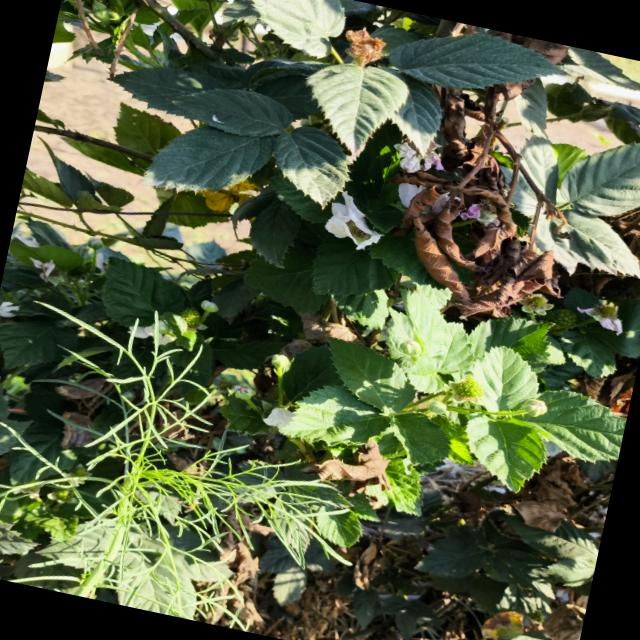boton: (233, 385, 259, 413), (520, 399, 547, 416), (400, 340, 422, 356), (271, 353, 290, 369), (427, 400, 447, 414), (200, 300, 218, 312)
verde: (451, 376, 483, 400), (180, 308, 200, 328)
